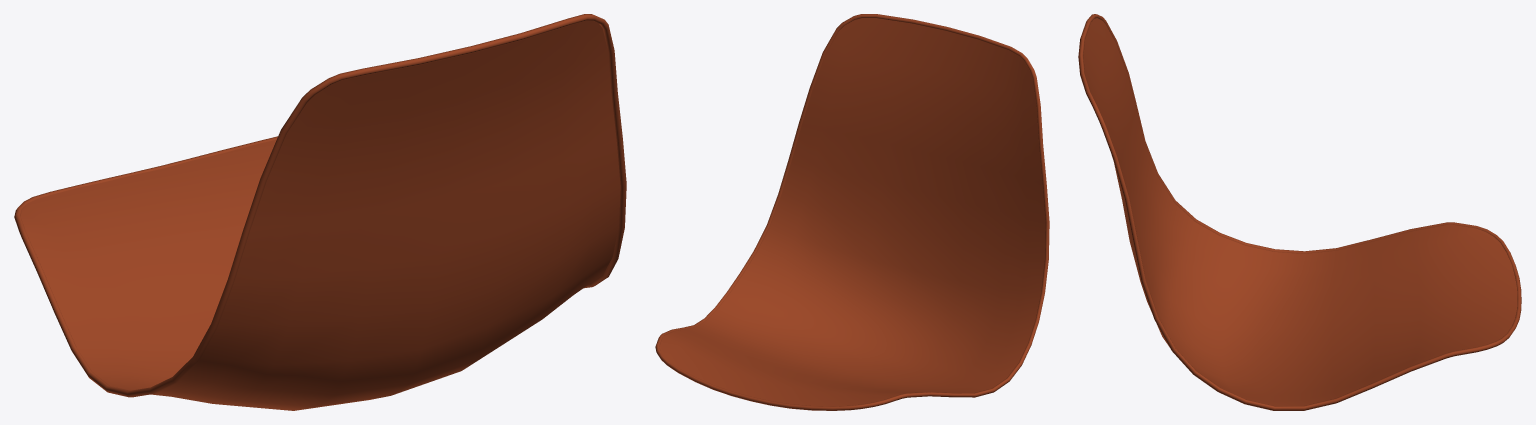
Rendered from meeting_shair.fbx.
3 views of the same model, side by side, from view 1: azimuth 30°, elevation 25°; view 2: azimuth 150°, elevation 25°; view 3: azimuth 270°, elevation 25° (orthographic). The views are drawn at different scales.
Visible parts, largest first — view 1: Plane.112; view 2: Plane.112; view 3: Plane.112.
Part boxes in pixels (box(x1,y1,x2,y2)): Plane.112: box(14, 14, 626, 410); Plane.112: box(655, 14, 1049, 410); Plane.112: box(1078, 14, 1521, 410).
Size of the model in its own units: 64.98 by 58.29 by 76.55.
